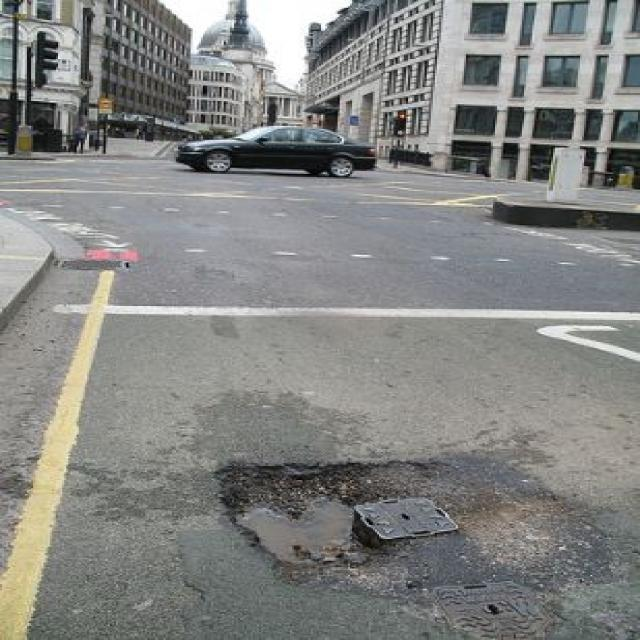pothole: (203, 450, 615, 586)
